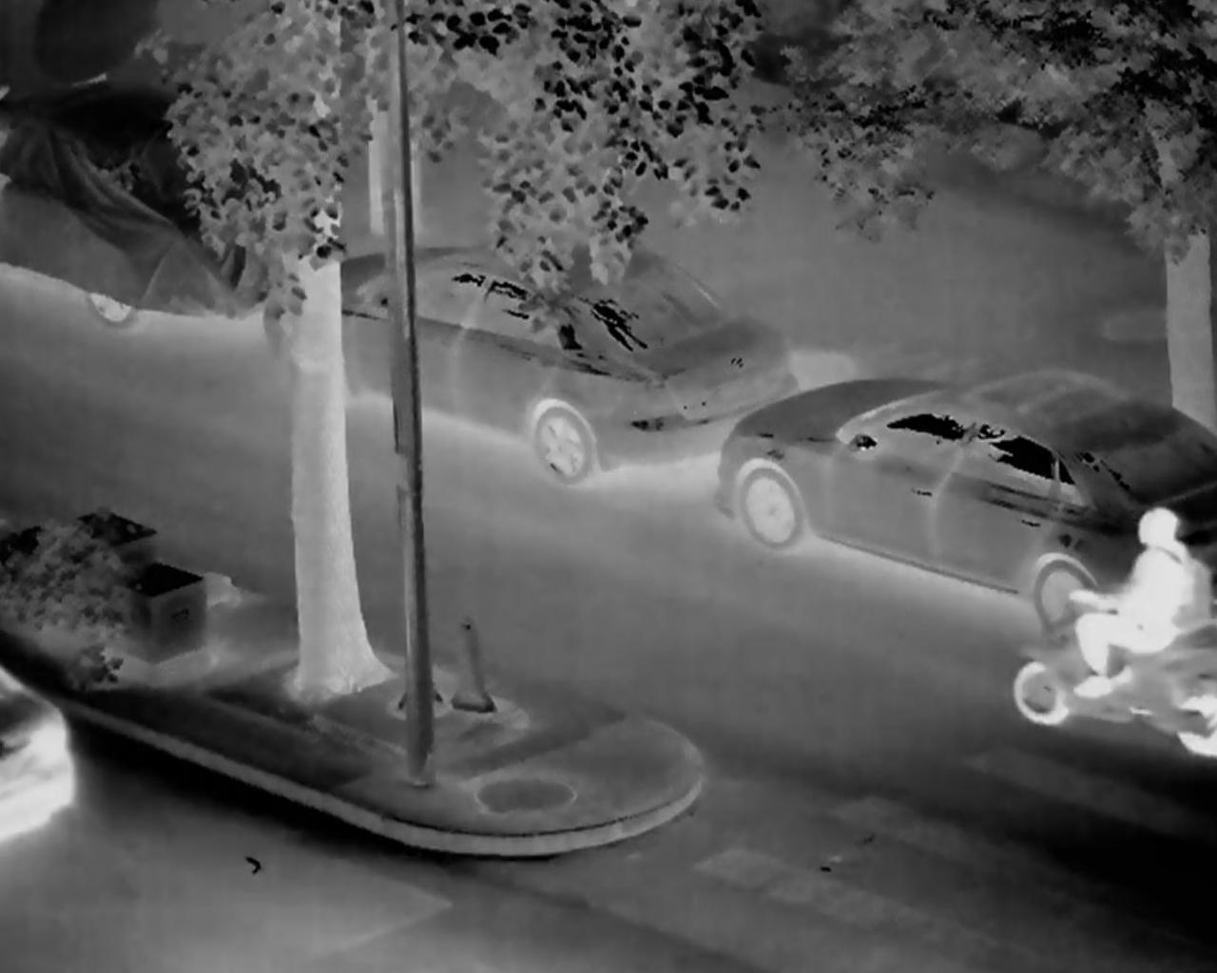person: (1051, 502, 1209, 745)
